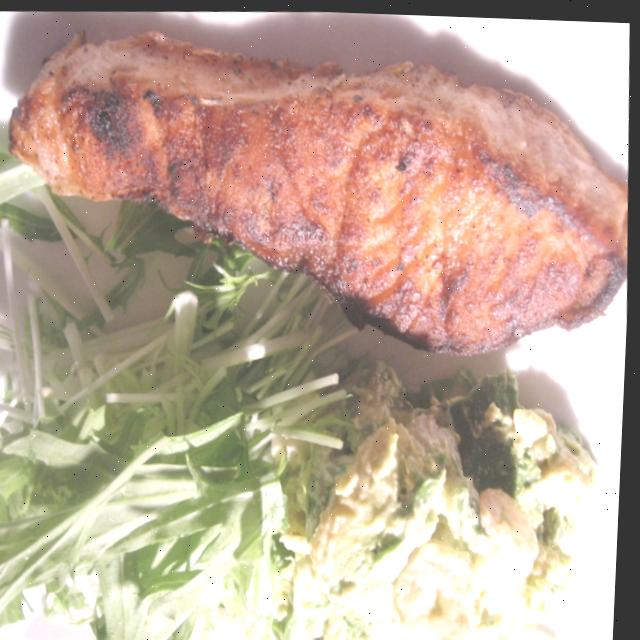熟制海鲜: (0, 41, 631, 357)
